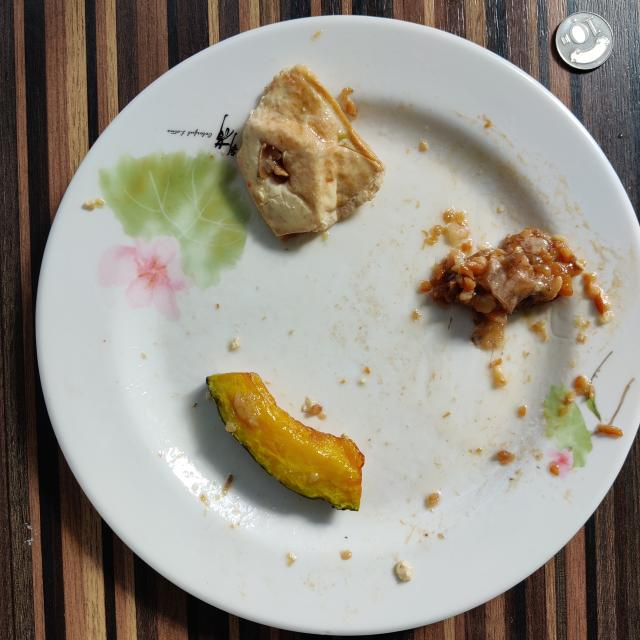Kabayaki sea bream fillet: (429, 229, 584, 349)
coin: (555, 11, 614, 70)
pumpkin: (206, 372, 364, 511)
